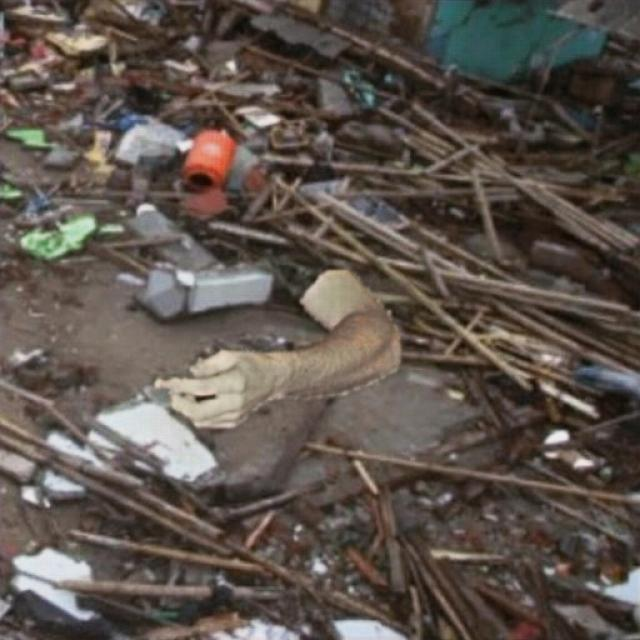Person in Rubble: (155, 270, 400, 426)
